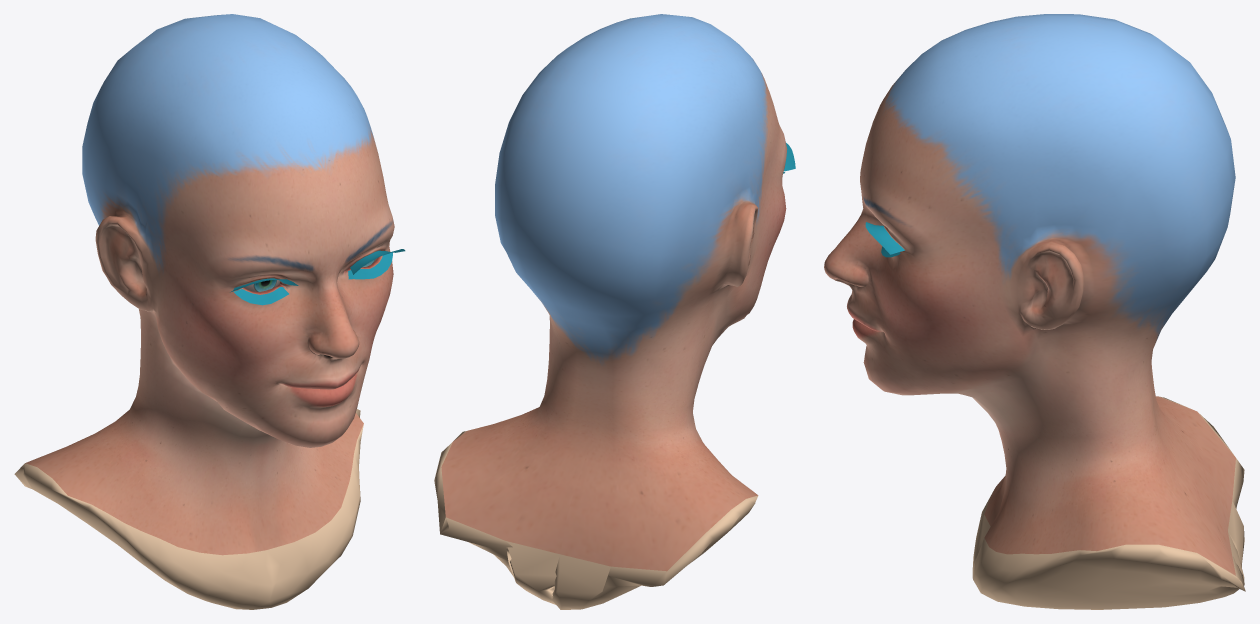
File: bitti.obj
3 renders of one model, left to right at view 1: azimuth 30°, elevation 25°; view 2: azimuth 150°, elevation 25°; view 3: azimuth 270°, elevation 25°, orthographic. The views are drawn at different scales.
Visible parts, largest first — view 1: Body, object 4, Eyelashes; view 2: Body, object 4; view 3: Body, object 4, Eyelashes.
Part boxes in pixels (x1=…): Body: x1=25, y1=14, x2=394, y2=555; object 4: x1=14, y1=409, x2=363, y2=609; Eyelashes: x1=230, y1=249, x2=405, y2=305; Body: x1=441, y1=14, x2=787, y2=571; object 4: x1=434, y1=431, x2=758, y2=609; Body: x1=824, y1=14, x2=1235, y2=575; object 4: x1=972, y1=396, x2=1245, y2=609; Eyelashes: x1=865, y1=222, x2=904, y2=257.
Bounding box in the file's own units: 19.58 × 33.59 × 22.28.
